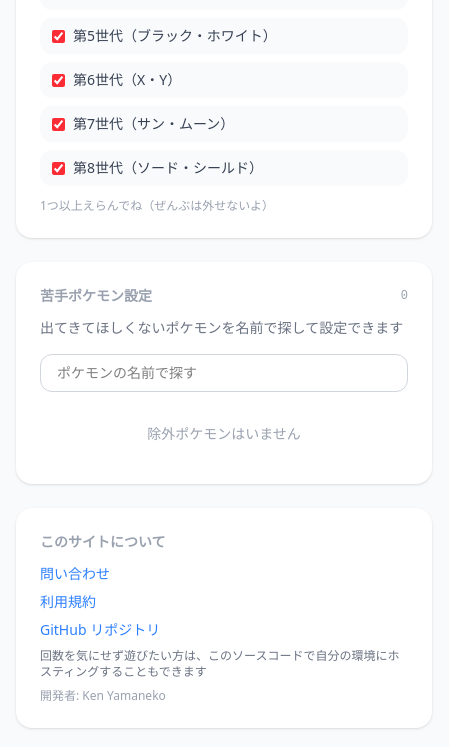
Scenario: [設定] 苦手ポケモン設定 › 正常系 › 検索語「ニド」が「ニドリーナ」と「ニドクイン」の名前に一致するとき、検索結果に両方が表示される
(page scrolled)
In the field with placeholder "ポケモンの名前で探す": (224, 373) [40,354,408,392], type "ニド"
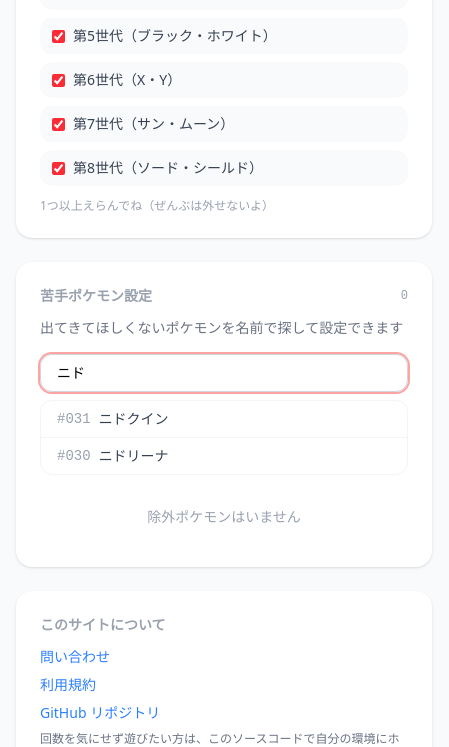
Expected: the button "#030 ニドリーナ" is shown, [41,438,407,474]
Expected: the button "#031 ニドクイン" is shown, [41,401,407,437]
